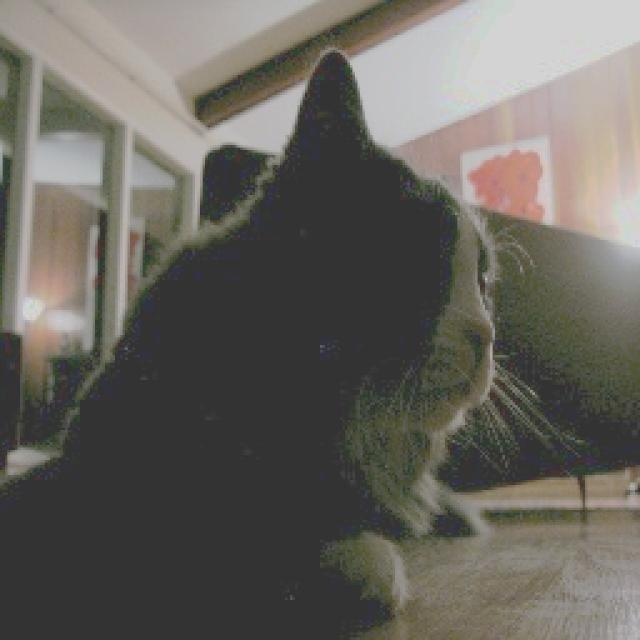cat: (15, 18, 519, 640)
